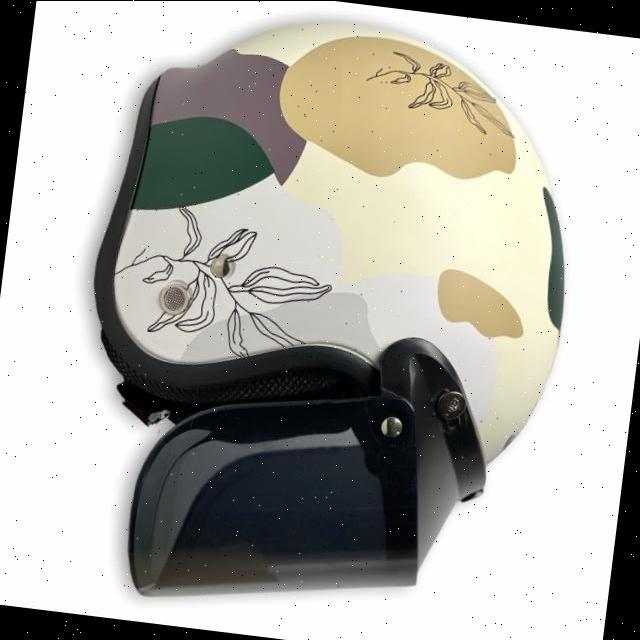Helm: (55, 0, 598, 640)
